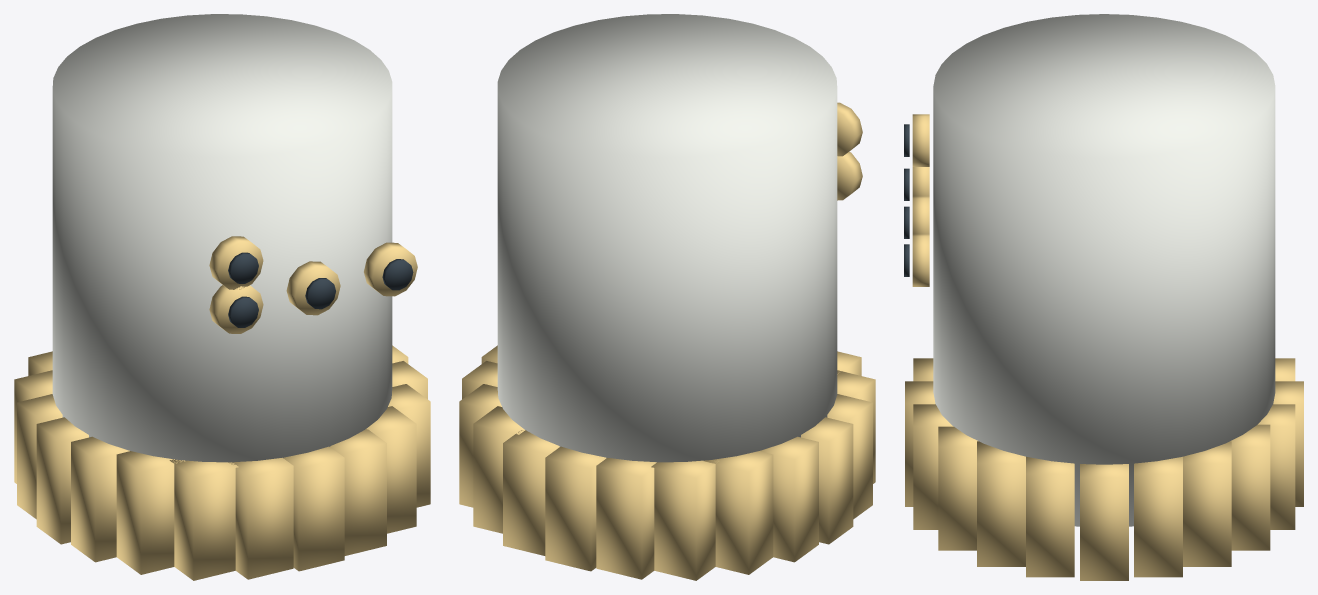
The model's file is 36_L92_TungstenCarbideCoringBit.fbx.
3 views of the same model, side by side, from view 1: azimuth 30°, elevation 25°; view 2: azimuth 150°, elevation 25°; view 3: azimuth 270°, elevation 25° (orthographic).
Parts seen in each view (by area): view 1: L92_TungstenCarbideCoringBit_Part_0000, L92_TungstenCarbideCoringBit_Part_0001, L92_TungstenCarbideCoringBit_Part_0008, L92_TungstenCarbideCoringBit_Part_0006, L92_TungstenCarbideCoringBit_Part_0010, L92_TungstenCarbideCoringBit_Part_0004, L92_TungstenCarbideCoringBit_Part_0009, L92_TungstenCarbideCoringBit_Part_0005, L92_TungstenCarbideCoringBit_Part_0011, L92_TungstenCarbideCoringBit_Part_0007; view 2: L92_TungstenCarbideCoringBit_Part_0000, L92_TungstenCarbideCoringBit_Part_0001, L92_TungstenCarbideCoringBit_Part_0002, L92_TungstenCarbideCoringBit_Part_0010, L92_TungstenCarbideCoringBit_Part_0004; view 3: L92_TungstenCarbideCoringBit_Part_0000, L92_TungstenCarbideCoringBit_Part_0001, L92_TungstenCarbideCoringBit_Part_0002, L92_TungstenCarbideCoringBit_Part_0008, L92_TungstenCarbideCoringBit_Part_0010, L92_TungstenCarbideCoringBit_Part_0006, L92_TungstenCarbideCoringBit_Part_0004.
Boxes of the visible parts, bbox=[...] form: L92_TungstenCarbideCoringBit_Part_0000: bbox=[52, 14, 392, 462]; L92_TungstenCarbideCoringBit_Part_0001: bbox=[14, 345, 430, 580]; L92_TungstenCarbideCoringBit_Part_0008: bbox=[364, 242, 417, 296]; L92_TungstenCarbideCoringBit_Part_0006: bbox=[286, 261, 340, 315]; L92_TungstenCarbideCoringBit_Part_0010: bbox=[209, 236, 263, 289]; L92_TungstenCarbideCoringBit_Part_0004: bbox=[209, 285, 263, 333]; L92_TungstenCarbideCoringBit_Part_0009: bbox=[382, 259, 413, 290]; L92_TungstenCarbideCoringBit_Part_0005: bbox=[228, 296, 258, 327]; L92_TungstenCarbideCoringBit_Part_0011: bbox=[228, 252, 258, 283]; L92_TungstenCarbideCoringBit_Part_0007: bbox=[305, 278, 335, 309]; L92_TungstenCarbideCoringBit_Part_0000: bbox=[497, 14, 837, 462]; L92_TungstenCarbideCoringBit_Part_0001: bbox=[473, 345, 875, 580]; L92_TungstenCarbideCoringBit_Part_0002: bbox=[459, 361, 501, 507]; L92_TungstenCarbideCoringBit_Part_0010: bbox=[837, 102, 862, 156]; L92_TungstenCarbideCoringBit_Part_0004: bbox=[837, 151, 862, 200]; L92_TungstenCarbideCoringBit_Part_0000: bbox=[933, 14, 1275, 526]; L92_TungstenCarbideCoringBit_Part_0001: bbox=[905, 358, 1303, 580]; L92_TungstenCarbideCoringBit_Part_0002: bbox=[1134, 441, 1231, 577]; L92_TungstenCarbideCoringBit_Part_0008: bbox=[912, 234, 929, 286]; L92_TungstenCarbideCoringBit_Part_0010: bbox=[912, 114, 929, 166]; L92_TungstenCarbideCoringBit_Part_0006: bbox=[912, 196, 929, 234]; L92_TungstenCarbideCoringBit_Part_0004: bbox=[912, 167, 929, 196].
Size of the model in its own units: 0.99 by 1.11 by 0.982.
